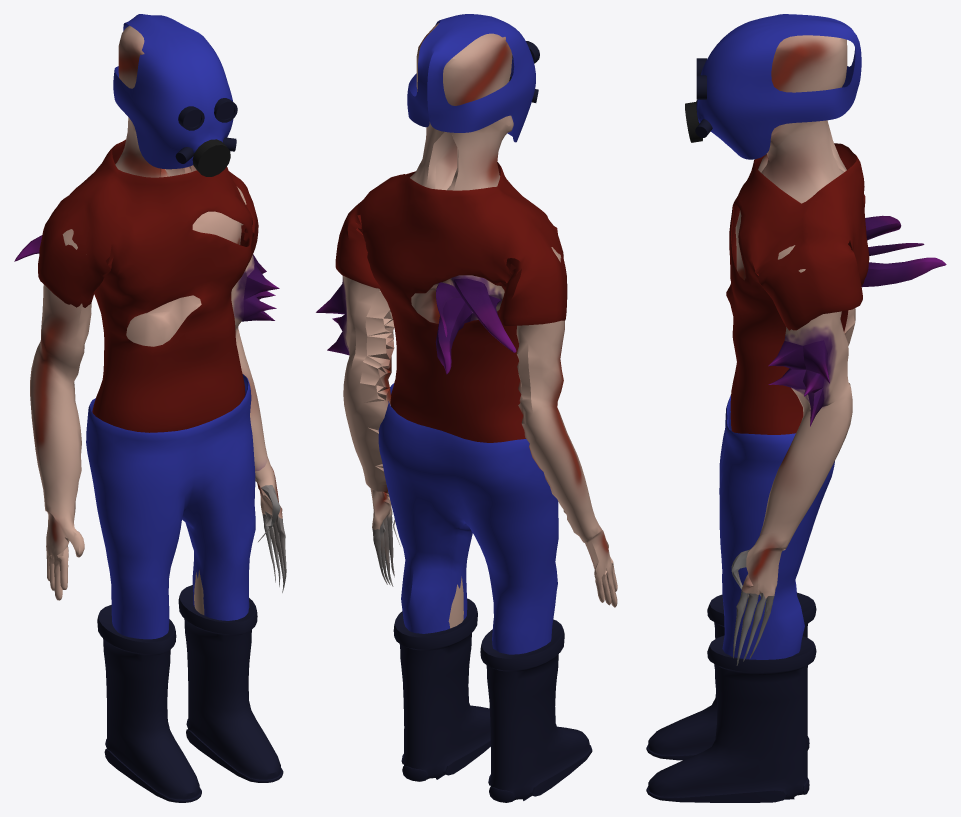
The model's file is AAAA.fbx.
The picture shows the model from 3 angles, left to right: view 1: azimuth 30°, elevation 25°; view 2: azimuth 150°, elevation 25°; view 3: azimuth 270°, elevation 25°; orthographic projection. The views are drawn at different scales.
Parts seen in each view (by area): view 1: Polygon_Reduction_1; view 2: Polygon_Reduction_1; view 3: Polygon_Reduction_1.
Part boxes in pixels (bbox=[...]): Polygon_Reduction_1: bbox=[14, 14, 286, 802]; Polygon_Reduction_1: bbox=[316, 14, 617, 802]; Polygon_Reduction_1: bbox=[646, 14, 946, 802].
Bounding box in the file's own units: 48.33 × 133 × 48.38.
5 materials, 1 textured.
